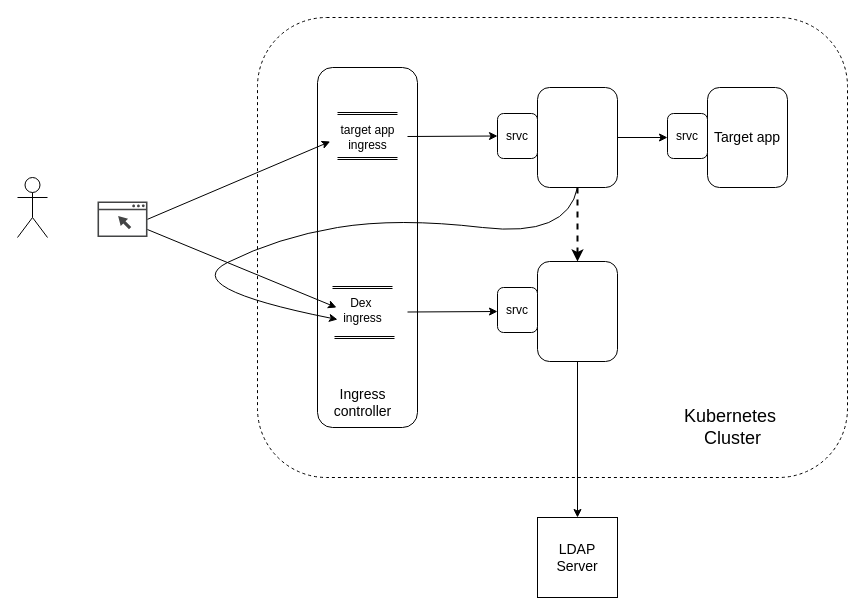
The diagram is 865 pixels wide and 615 high, and some of its shapes have lost their labels. Here are the shapes that lost their labels. From the top down, the centre of each, then its label:
pixel 577 137: Dexgate
pixel 32 207: User
pixel 577 311: Dex
